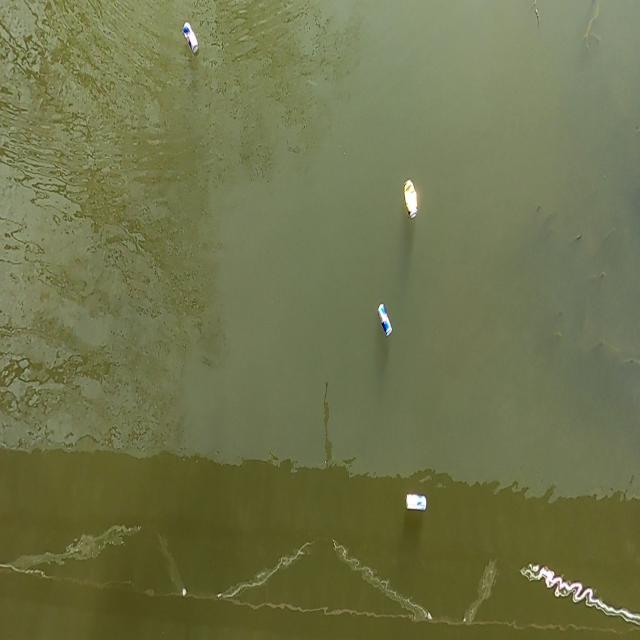Non plastique: (404, 181, 416, 217), (378, 303, 391, 336), (184, 22, 197, 54), (407, 494, 426, 510)
